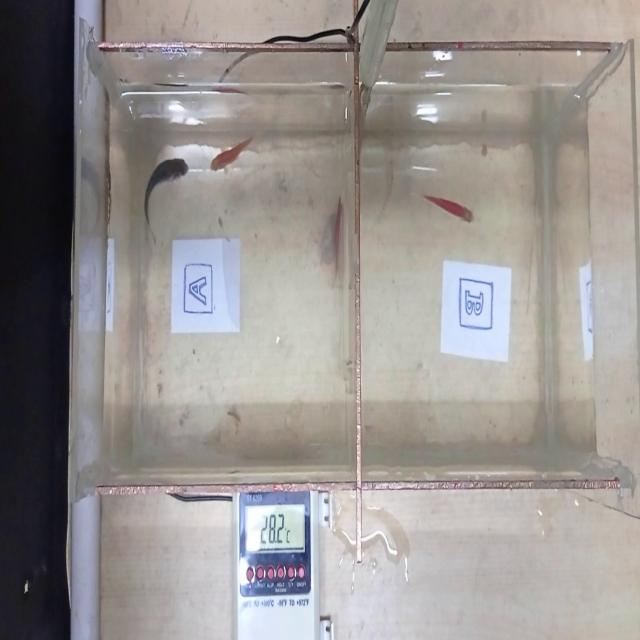Fish A1: (137, 137, 192, 245)
Fish A2: (201, 133, 268, 194)
Fish A3: (326, 177, 352, 291)
Fish B: (420, 176, 481, 242)
